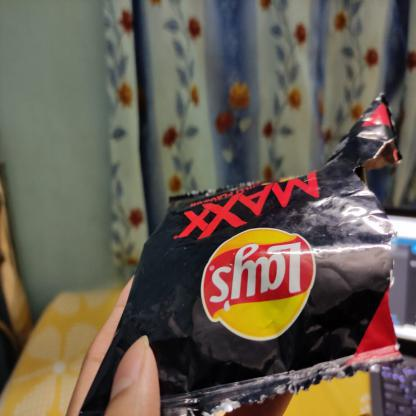max_chili: (149, 183, 387, 374)
